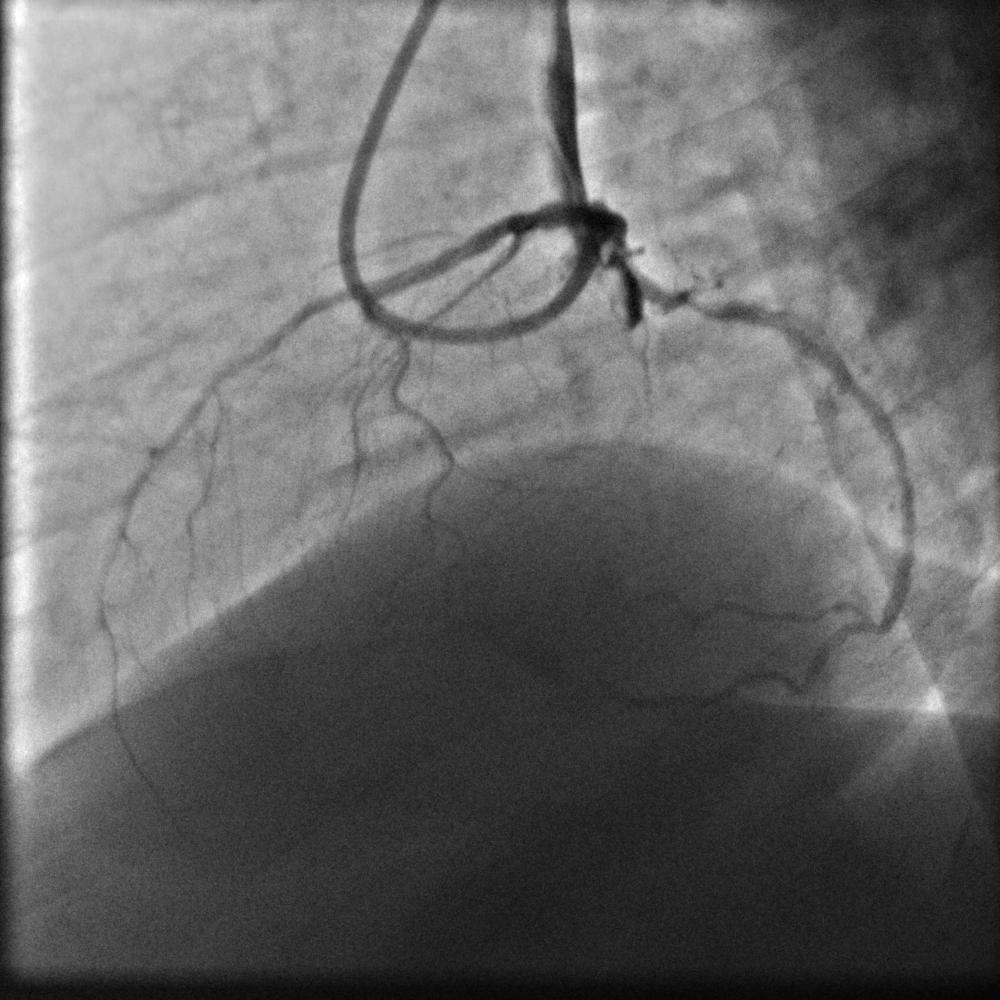Stenosis: (687, 289, 724, 321)
